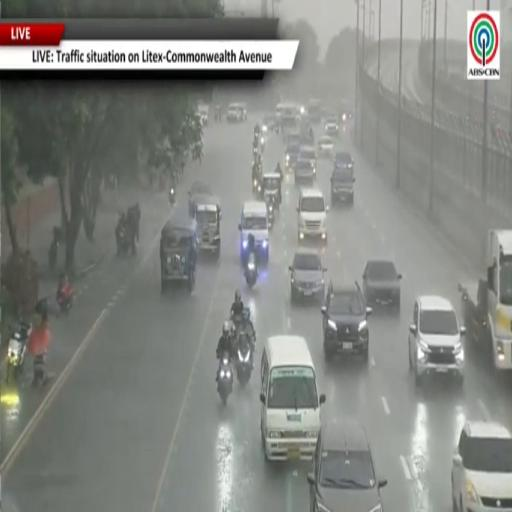car: (260, 335, 326, 460), (307, 422, 387, 511), (452, 422, 511, 511), (409, 296, 465, 386), (321, 282, 371, 361), (160, 217, 197, 293), (363, 260, 401, 312), (289, 249, 326, 302), (239, 201, 269, 266), (194, 195, 221, 259), (297, 188, 328, 243), (331, 166, 355, 205), (189, 181, 212, 217), (293, 157, 315, 184), (299, 146, 317, 173), (285, 142, 300, 170), (227, 103, 247, 122), (334, 152, 353, 171), (318, 136, 334, 157), (307, 99, 321, 122), (340, 101, 353, 122), (325, 117, 339, 136), (262, 115, 276, 133), (197, 105, 209, 125), (286, 132, 302, 145)
motorcycle: (6, 323, 31, 383), (236, 335, 252, 387), (217, 354, 233, 405), (117, 221, 136, 255), (48, 227, 62, 271), (57, 285, 74, 314), (245, 253, 258, 289), (33, 354, 46, 387), (48, 238, 58, 271), (266, 197, 275, 230), (253, 178, 261, 195), (260, 136, 265, 153), (170, 187, 175, 204), (253, 146, 258, 157)
truck: (459, 230, 511, 370)
